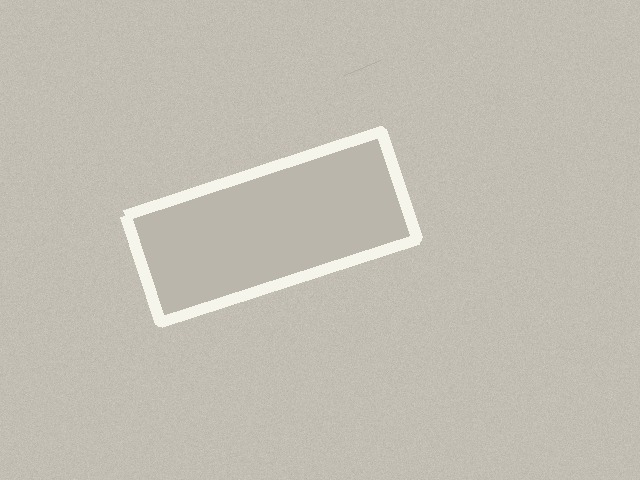parking_area: (125, 131, 417, 322)
